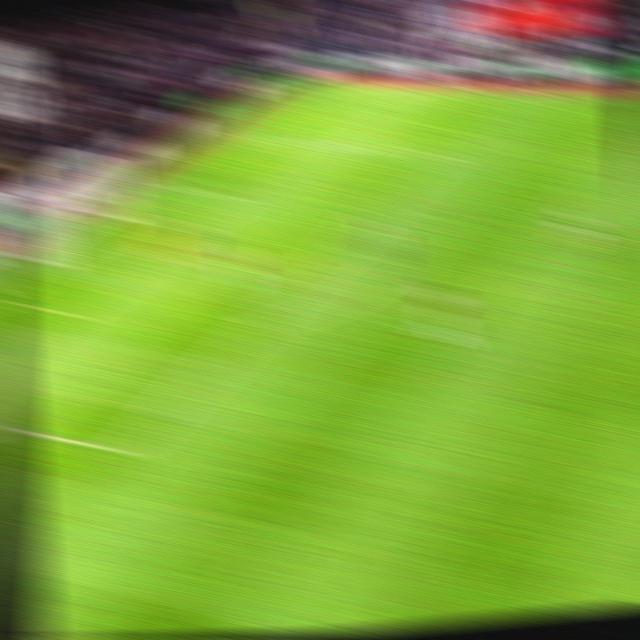bigarea_bottom_inner: (108, 437, 144, 464)
bigarea_top_inner: (422, 143, 455, 163)
bigarea_top_outter: (230, 130, 259, 144)
bottom_arc_area_intersection: (242, 313, 276, 334)
corner: (306, 79, 339, 92)
smallarea_bottom_inner: (55, 299, 90, 323)
smallarea_top_inner: (218, 185, 249, 204)
smallarea_top_outter: (153, 179, 183, 195)
top_arc_area_intersection: (353, 211, 384, 228)
